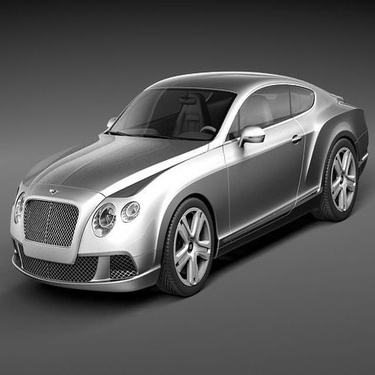car: (8, 68, 371, 309)
